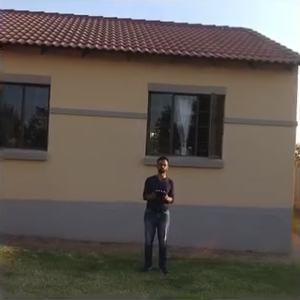follow: (135, 151, 176, 280)
